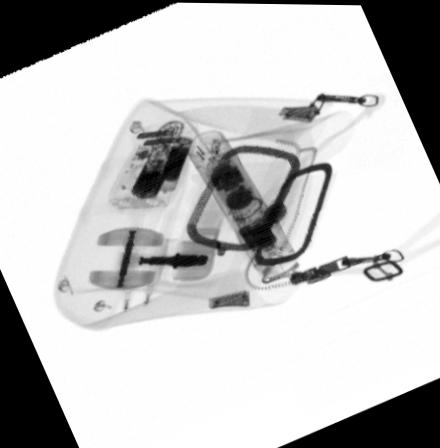Baton: (183, 129, 300, 281)
